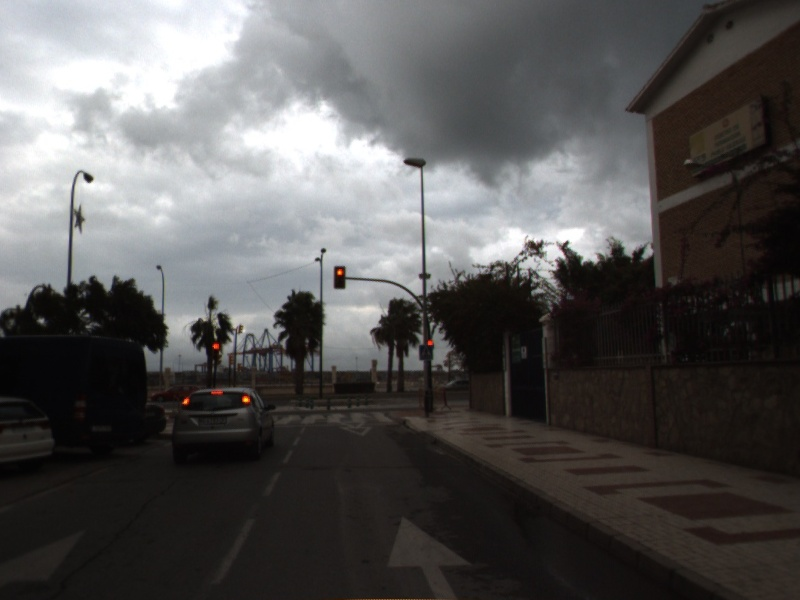STRAIGHT: (384, 512, 478, 600)
